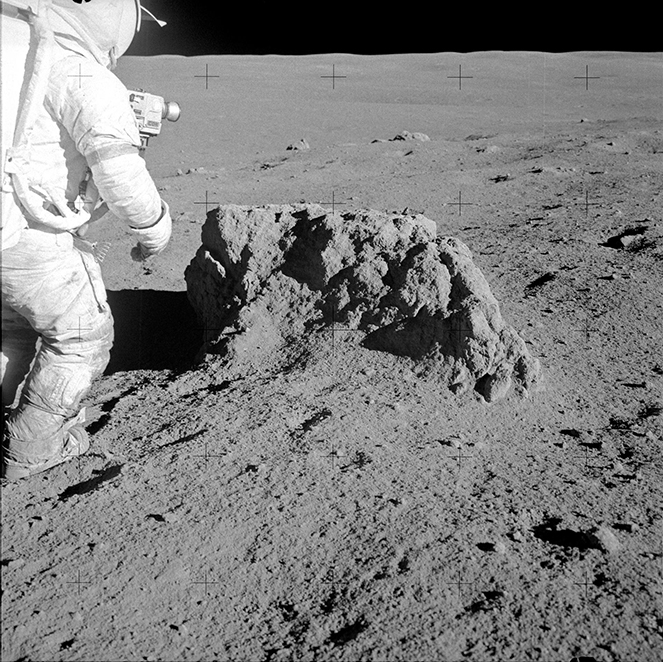boulder: (182, 199, 538, 397)
